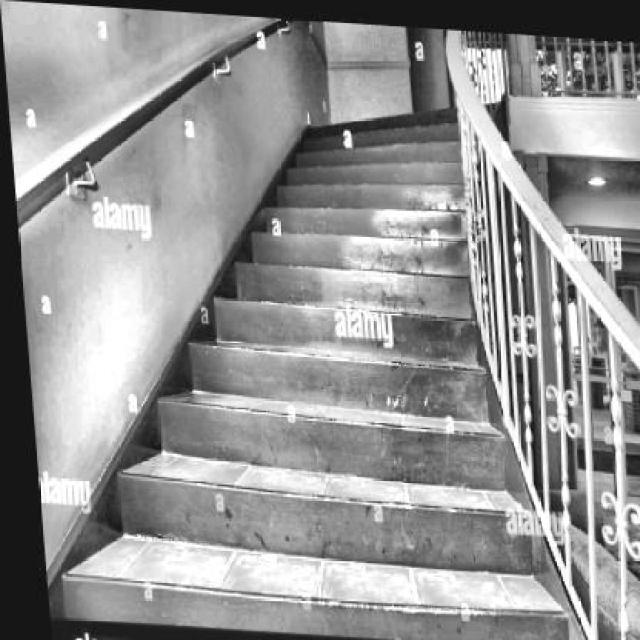stair: (20, 66, 569, 639)
